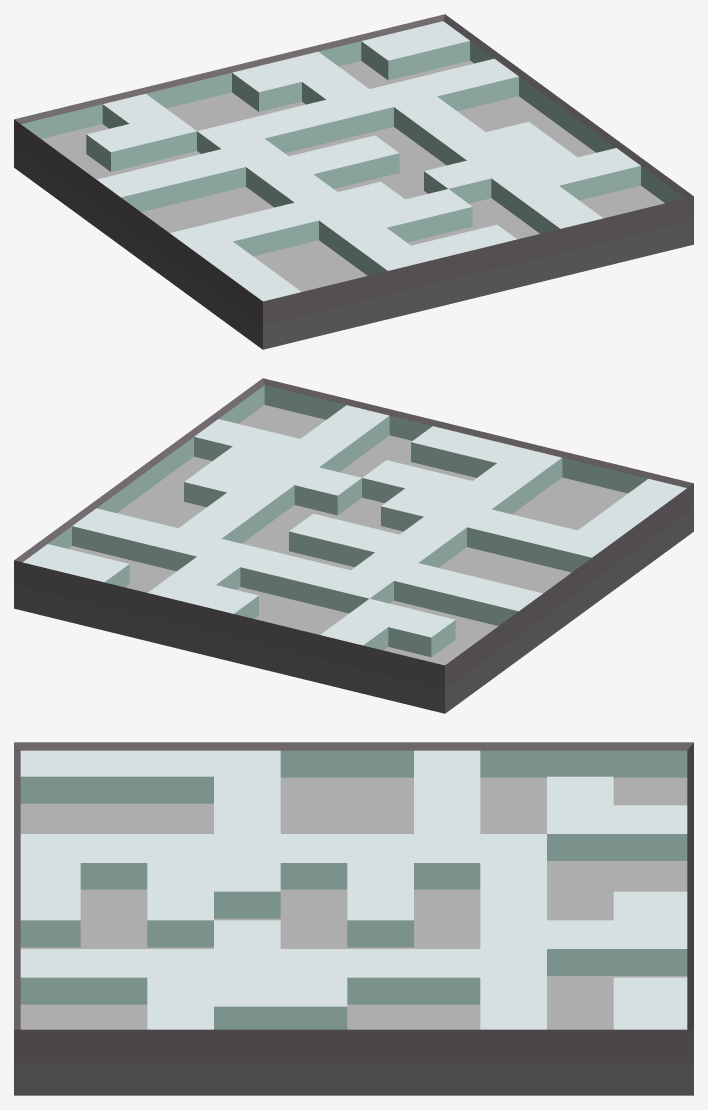
Rendered from Maze.fbx.
3 views of the same model, one above another, from view 1: azimuth 30°, elevation 25°; view 2: azimuth 150°, elevation 25°; view 3: azimuth 270°, elevation 25° (orthographic). The views are drawn at different scales.
Visible parts, largest first — view 1: LabringthUp; view 2: LabringthUp; view 3: LabringthUp.
Boxes of the visible parts, bbox=[...] form: LabringthUp: bbox=[14, 14, 693, 349]; LabringthUp: bbox=[14, 378, 693, 713]; LabringthUp: bbox=[14, 742, 693, 1095].
Bounding box in the file's own units: 2000 × 214 × 2000.
